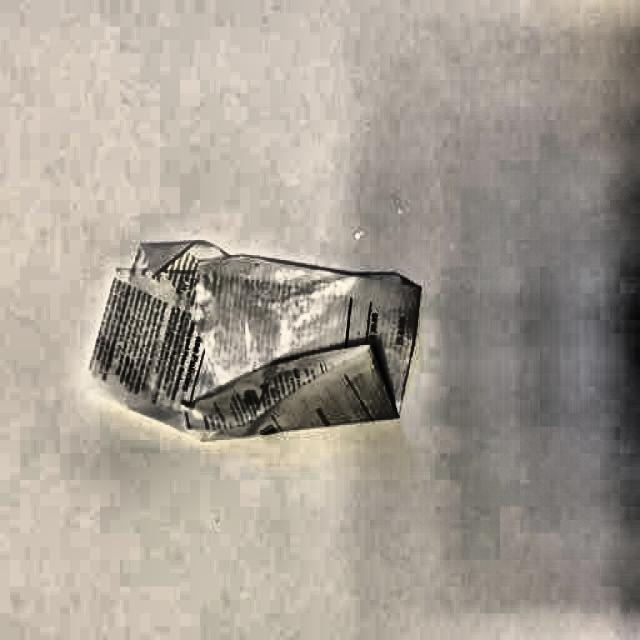paper: (88, 236, 424, 448)
